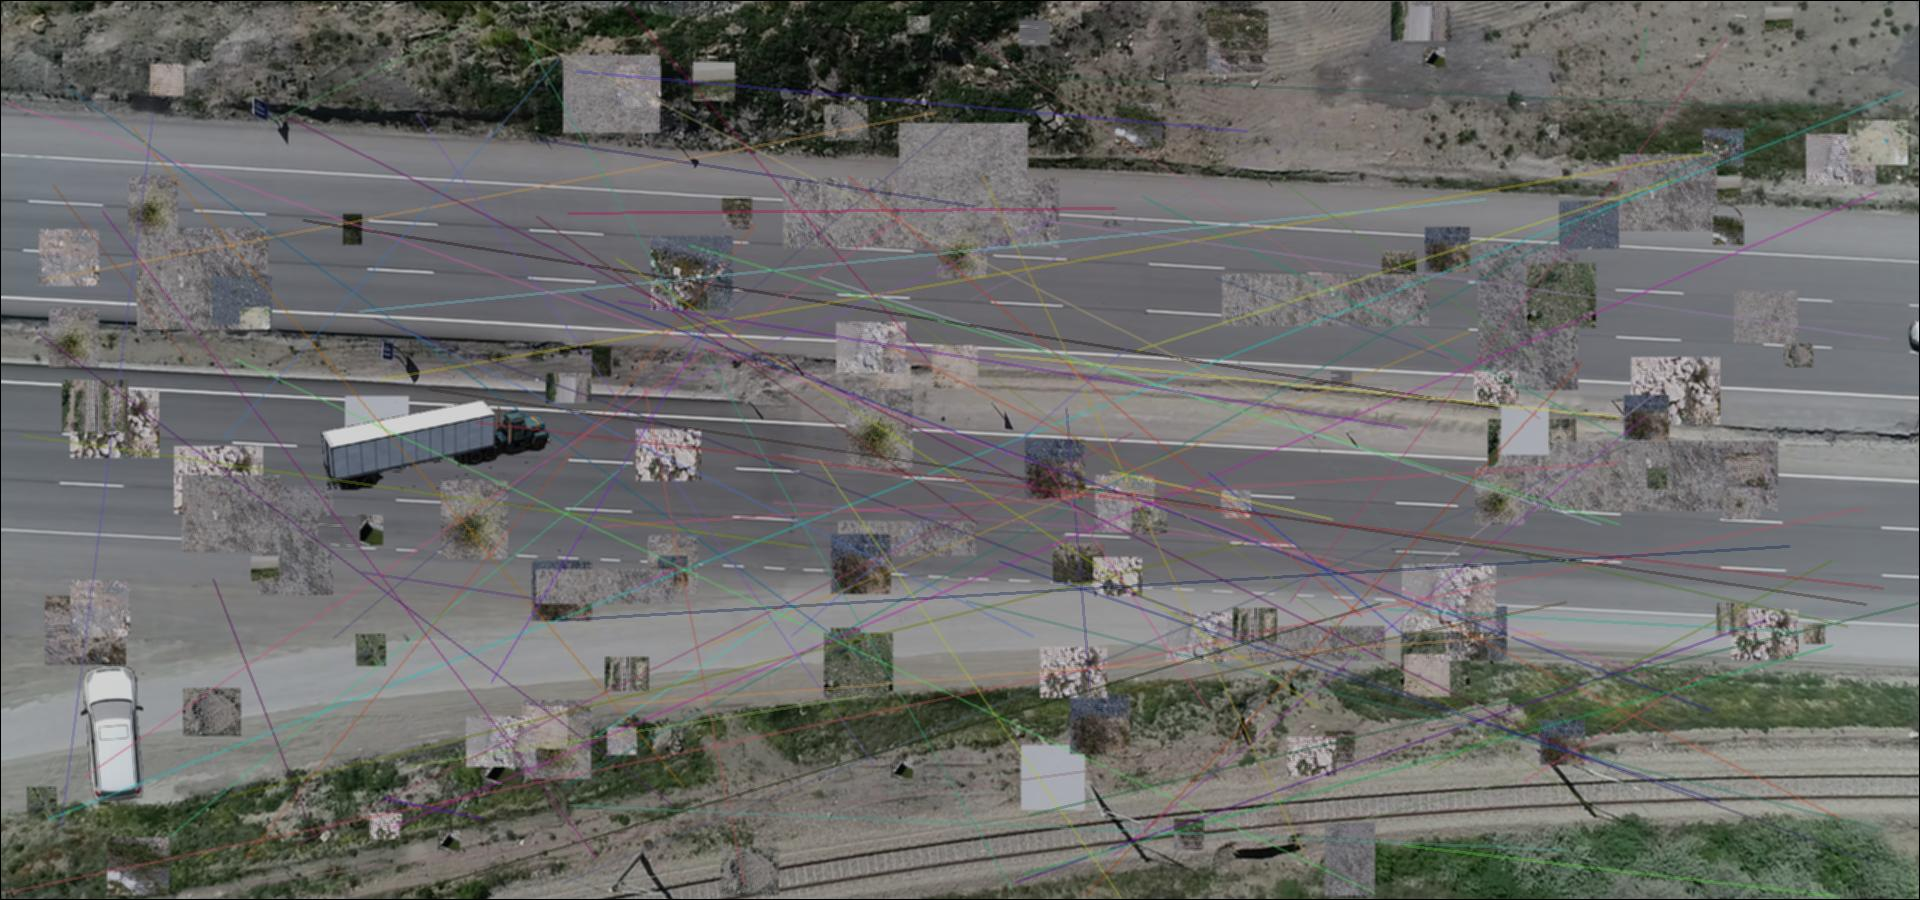arac: (317, 397, 553, 490), (73, 662, 149, 803)
